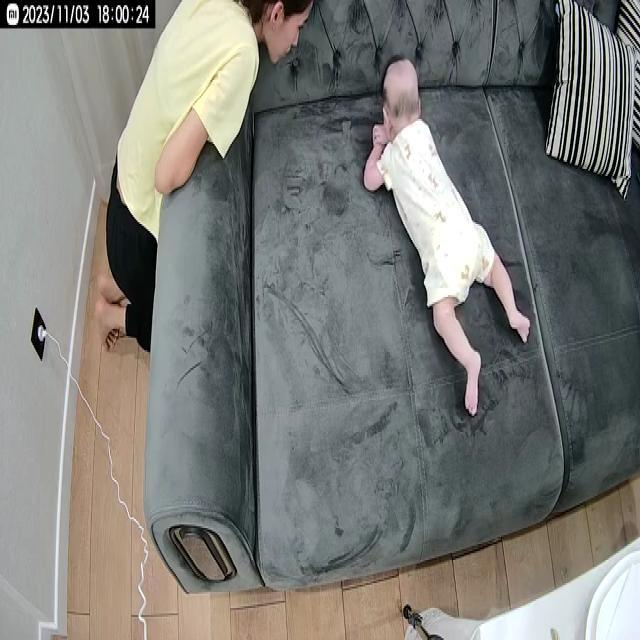baby: (361, 54, 534, 424)
